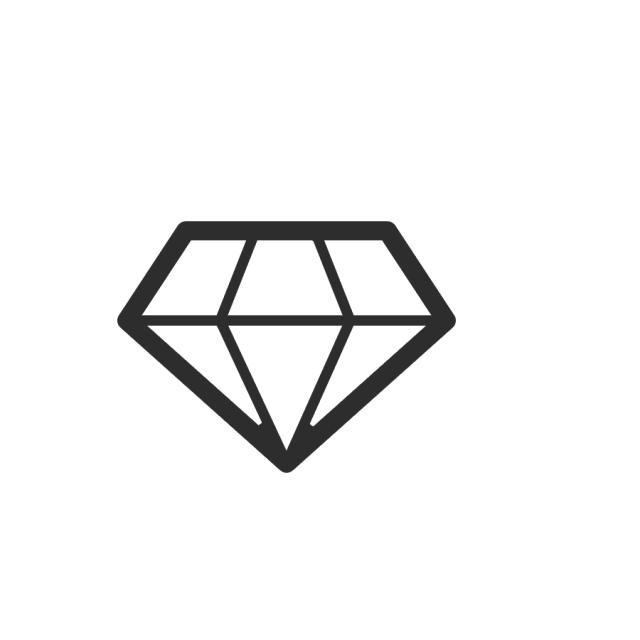diamond: (114, 218, 462, 482)
